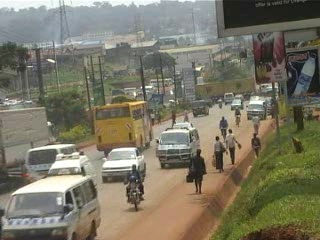Car: (99, 144, 147, 184), (228, 97, 245, 111)
Motorcycle: (120, 168, 146, 215), (215, 96, 224, 108)
